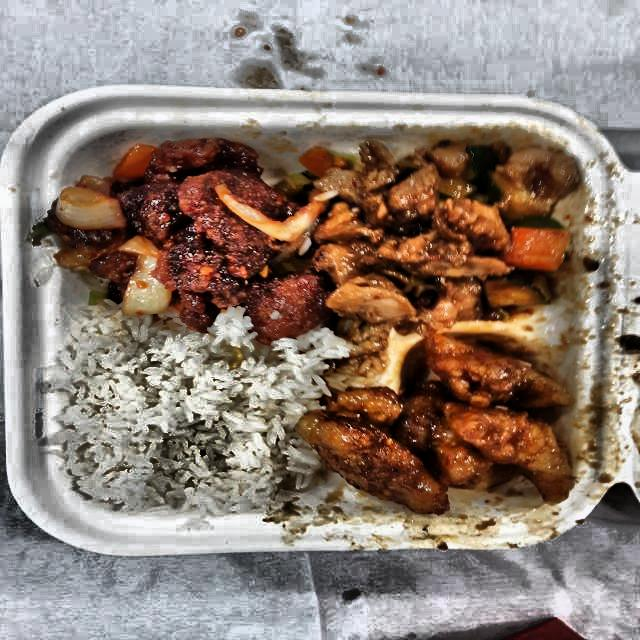Food: (302, 127, 582, 337), (308, 334, 592, 521), (44, 126, 314, 320), (52, 319, 316, 516)
